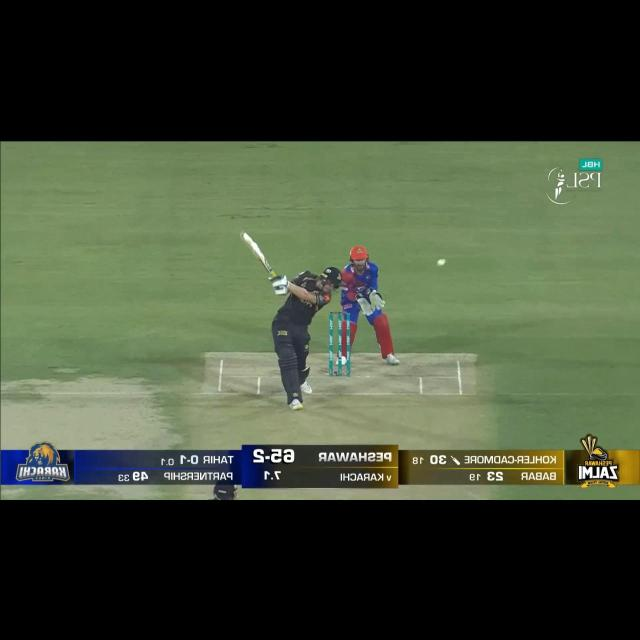bat: (237, 226, 278, 281)
toe: (236, 226, 253, 245)
